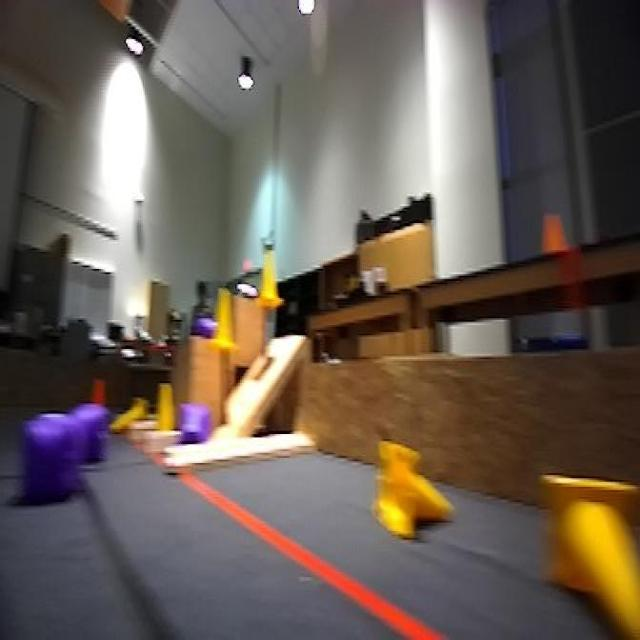frc_cone: (539, 470, 640, 640), (376, 436, 462, 541), (211, 288, 242, 354), (109, 400, 155, 434), (258, 244, 283, 306), (156, 382, 174, 432)
frc_cube: (24, 410, 83, 506), (70, 412, 110, 458), (177, 400, 215, 446), (192, 308, 219, 347)
